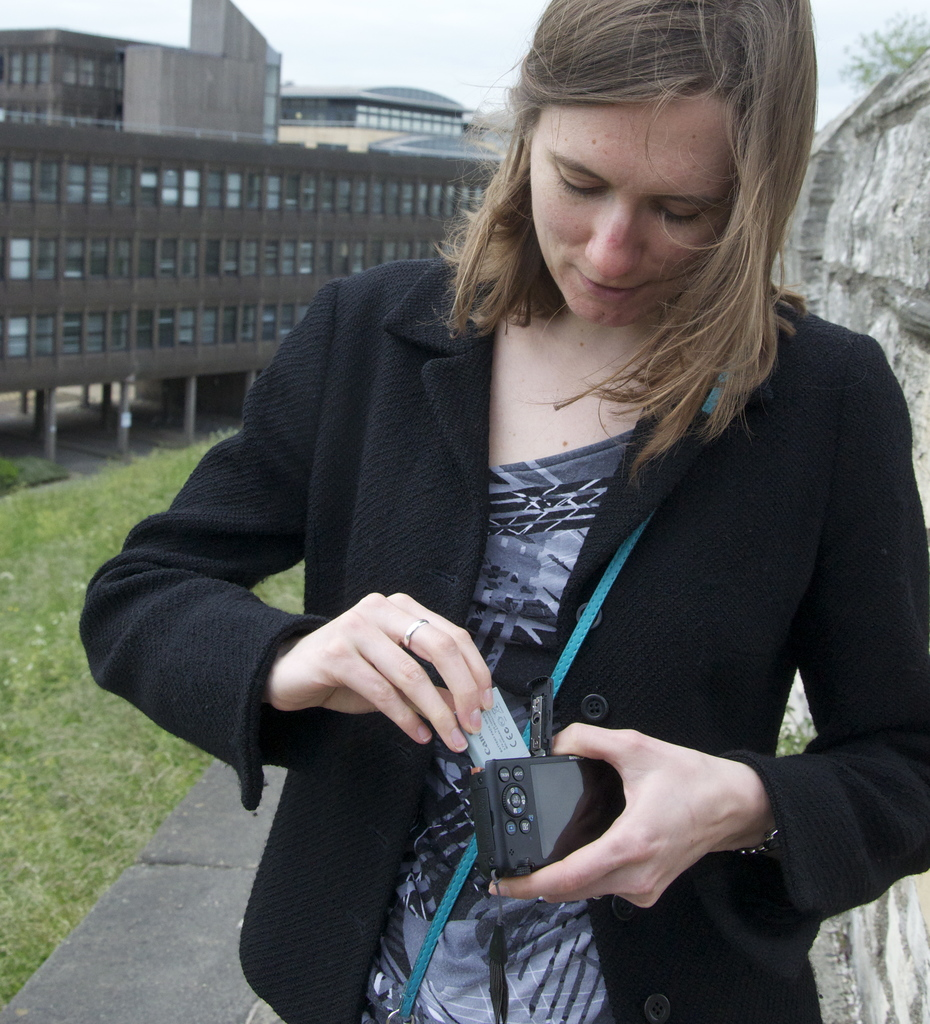Human_hand: (488, 716, 745, 912), (266, 590, 497, 755)
